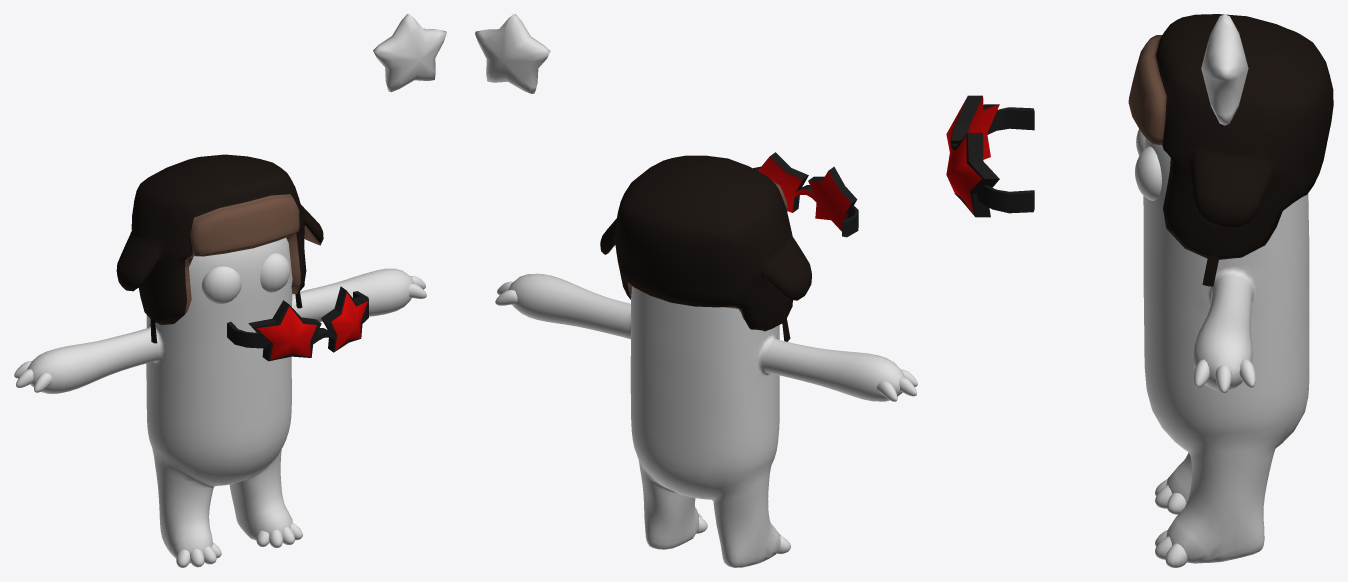
File: Kitty ID.UV.static.fbx
The picture shows the model from 3 angles, left to right: view 1: azimuth 30°, elevation 25°; view 2: azimuth 150°, elevation 25°; view 3: azimuth 270°, elevation 25°; orthographic projection. The views are drawn at different scales.
Visible parts, largest first — view 1: Kitty, Hat, Glasses, Star_baloon, Eye_right, Eye_left, Right_foot_nails, Left_foot_nails, Right_nails; view 2: Kitty, Hat, Glasses, Star_baloon, Right_nails; view 3: Kitty, Hat, Glasses, Star_baloon, Eye_left, Left_nails, Left_foot_nails, Right_foot_nails.
Part boxes in pixels (x1,y1,x2,y2): Kitty: (27, 237, 414, 563); Hat: (116, 154, 323, 343); Glasses: (227, 286, 368, 361); Star_baloon: (373, 14, 446, 92); Eye_right: (201, 266, 241, 304); Eye_left: (260, 253, 290, 292); Right_foot_nails: (176, 542, 221, 567); Left_foot_nails: (256, 523, 302, 547); Right_nails: (14, 361, 52, 392); Kitty: (508, 273, 904, 567); Hat: (600, 155, 811, 341); Glasses: (753, 152, 858, 237); Star_baloon: (475, 14, 550, 93); Right_nails: (877, 369, 917, 401); Kitty: (1143, 137, 1309, 563); Hat: (1128, 14, 1333, 286); Glasses: (946, 95, 1034, 217); Star_baloon: (1201, 14, 1248, 125); Eye_left: (1135, 146, 1161, 200); Left_nails: (1194, 359, 1255, 393); Left_foot_nails: (1155, 530, 1187, 567); Right_foot_nails: (1155, 479, 1186, 514).
Bounding box in the file's own units: 28.22 × 30.07 × 16.52.
